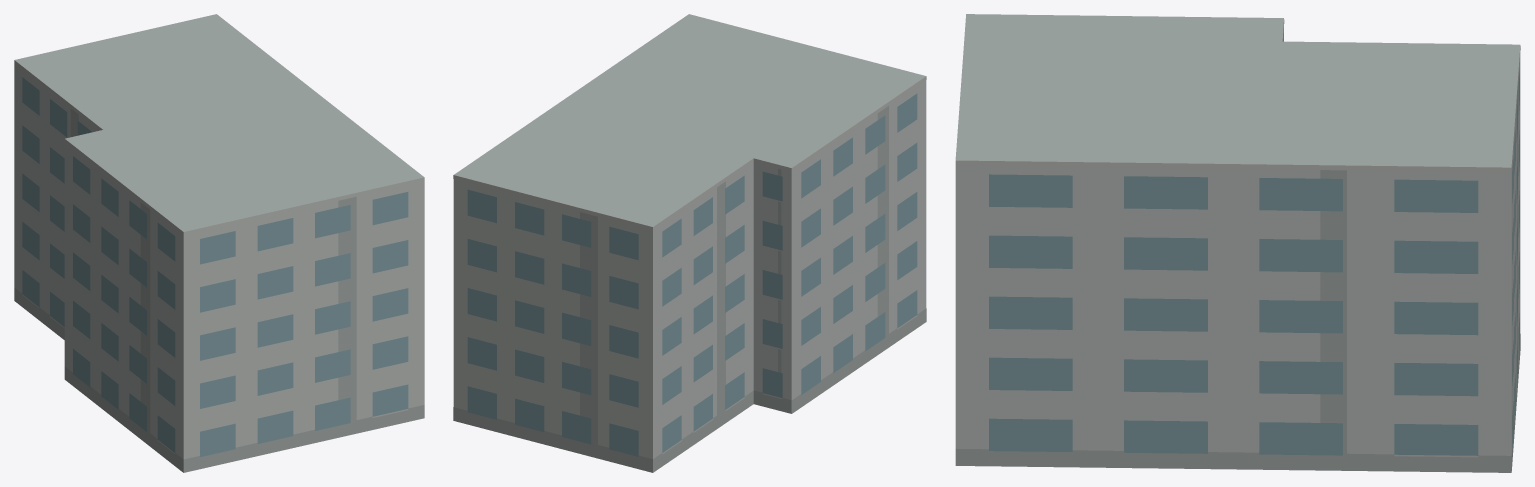
Rendered from residential-dd06ce35-823f-4083-b1f6-f8a33509aa51.glb.
3 views of the same model, side by side, from view 1: azimuth 30°, elevation 25°; view 2: azimuth 150°, elevation 25°; view 3: azimuth 270°, elevation 25° (orthographic). The views are drawn at different scales.
Parts seen in each view (by area): view 1: residential-dd06ce35-823f-4083-b1f6-f8a33509aa51.tmp; view 2: residential-dd06ce35-823f-4083-b1f6-f8a33509aa51.tmp; view 3: residential-dd06ce35-823f-4083-b1f6-f8a33509aa51.tmp.
Part boxes in pixels (x1,y1,x2,y2): residential-dd06ce35-823f-4083-b1f6-f8a33509aa51.tmp: [14, 14, 424, 472]; residential-dd06ce35-823f-4083-b1f6-f8a33509aa51.tmp: [453, 14, 926, 472]; residential-dd06ce35-823f-4083-b1f6-f8a33509aa51.tmp: [955, 14, 1520, 472].
Bounding box in the file's own units: 16.46 × 15.25 × 25.58.
